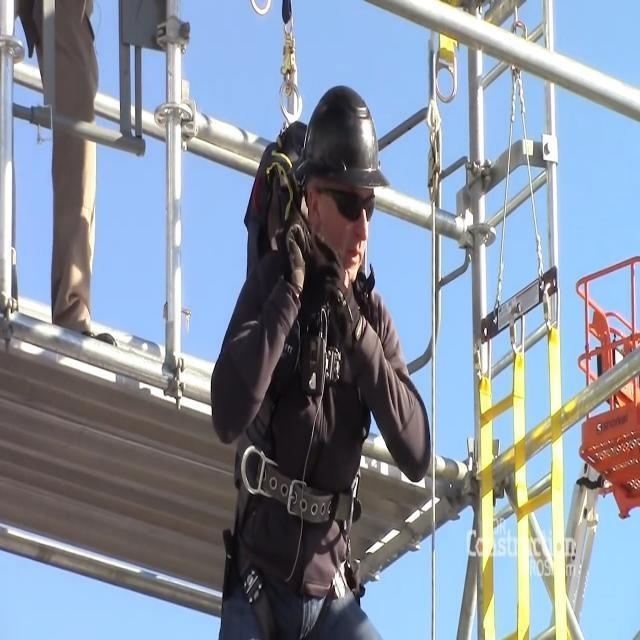Arnes_seguridad: (214, 121, 385, 640)
